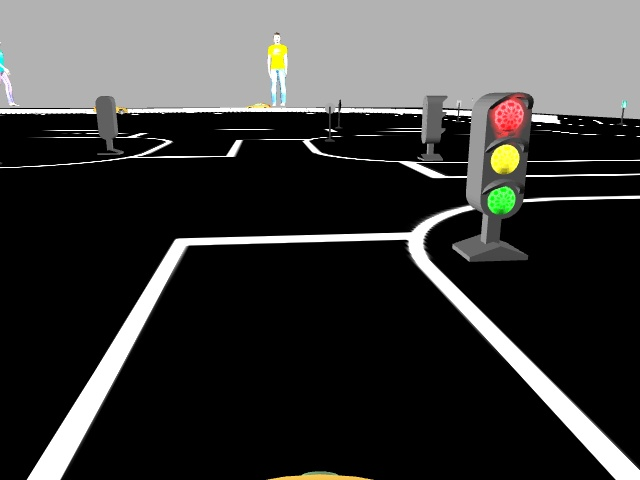TrafficLight: (467, 90, 533, 217)
